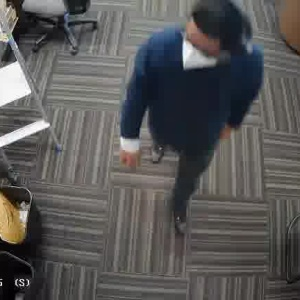person: (122, 1, 259, 227)
